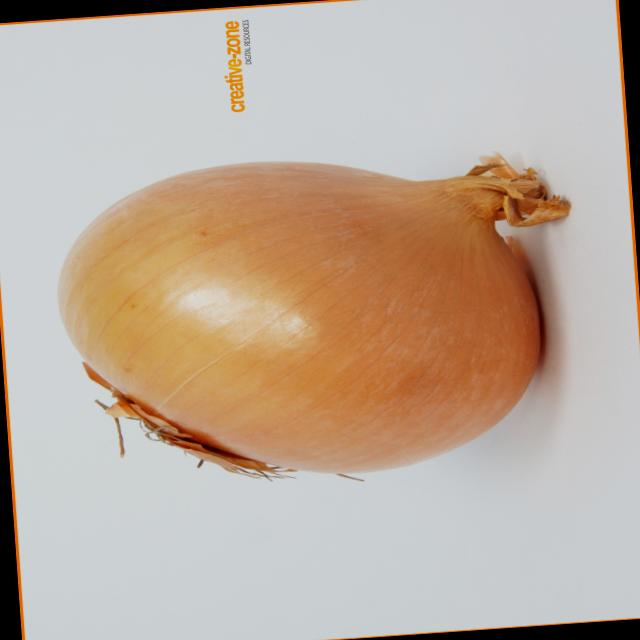onion: (38, 130, 597, 510)
